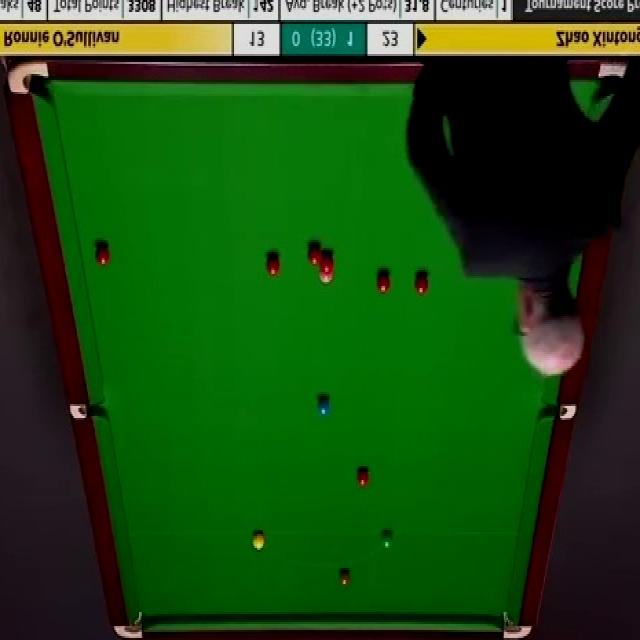blue-ball: (316, 395, 332, 417)
brown-ball: (338, 570, 351, 587)
green-ball: (380, 530, 393, 551)
pink-ball: (318, 268, 335, 286)
red-ball: (374, 268, 392, 297), (413, 272, 429, 298), (265, 253, 281, 277), (357, 464, 370, 488), (308, 243, 322, 265), (96, 245, 110, 266), (318, 253, 334, 270)
yellow-ball: (253, 530, 265, 550)
